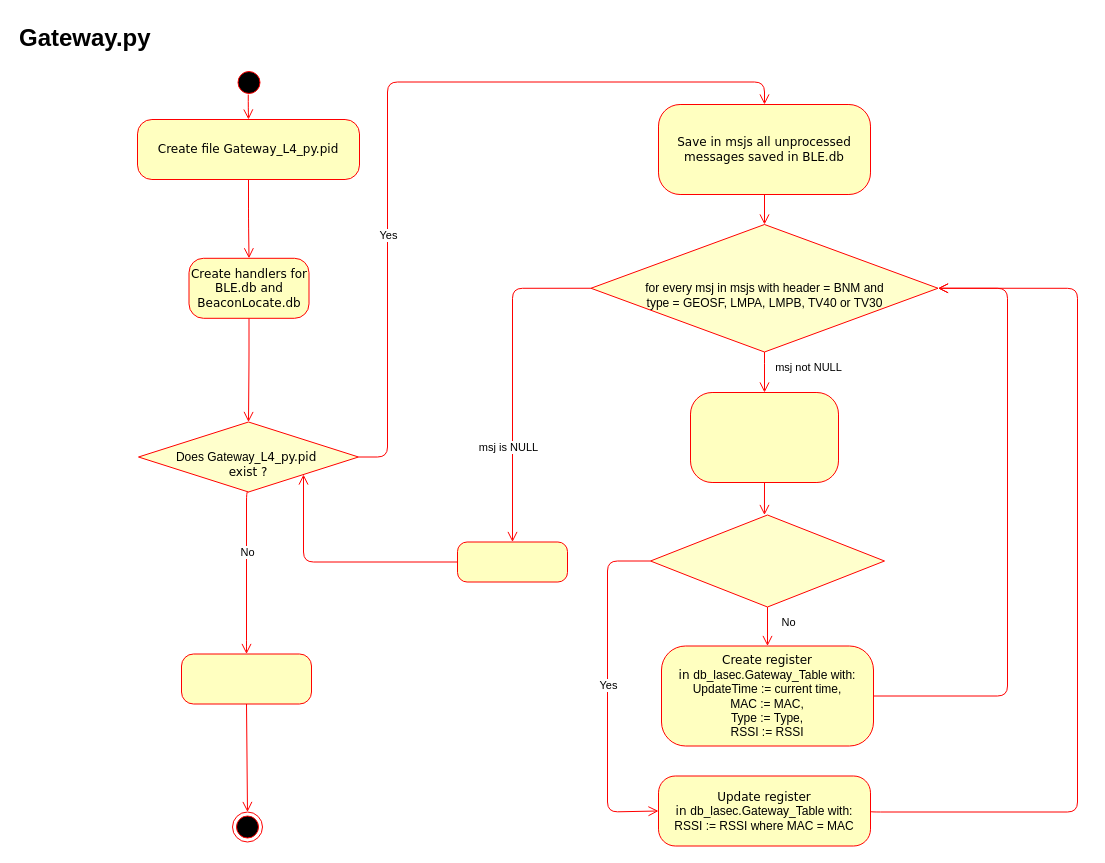
Image size: 1105x863. Some labels were removed from this diagram. The centre of each missing label's shape, as x and y in pixels:
"Close db's connections" belongs at point 246,678.
"Is there a register in db_lasec.Gateway_Table with the same MAC?" belongs at point 767,560.
"MAC := getMAC(msj) Type := getType(msj) RSSI := getRSSI(msj)" belongs at point 764,437.
"sleep 20 ms" belongs at point 512,561.
